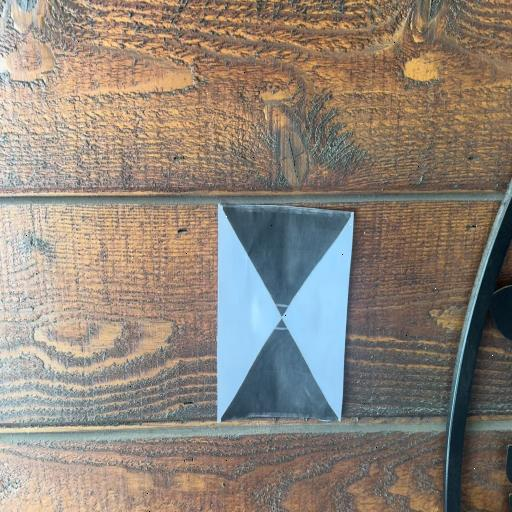target: (217, 204, 353, 423)
